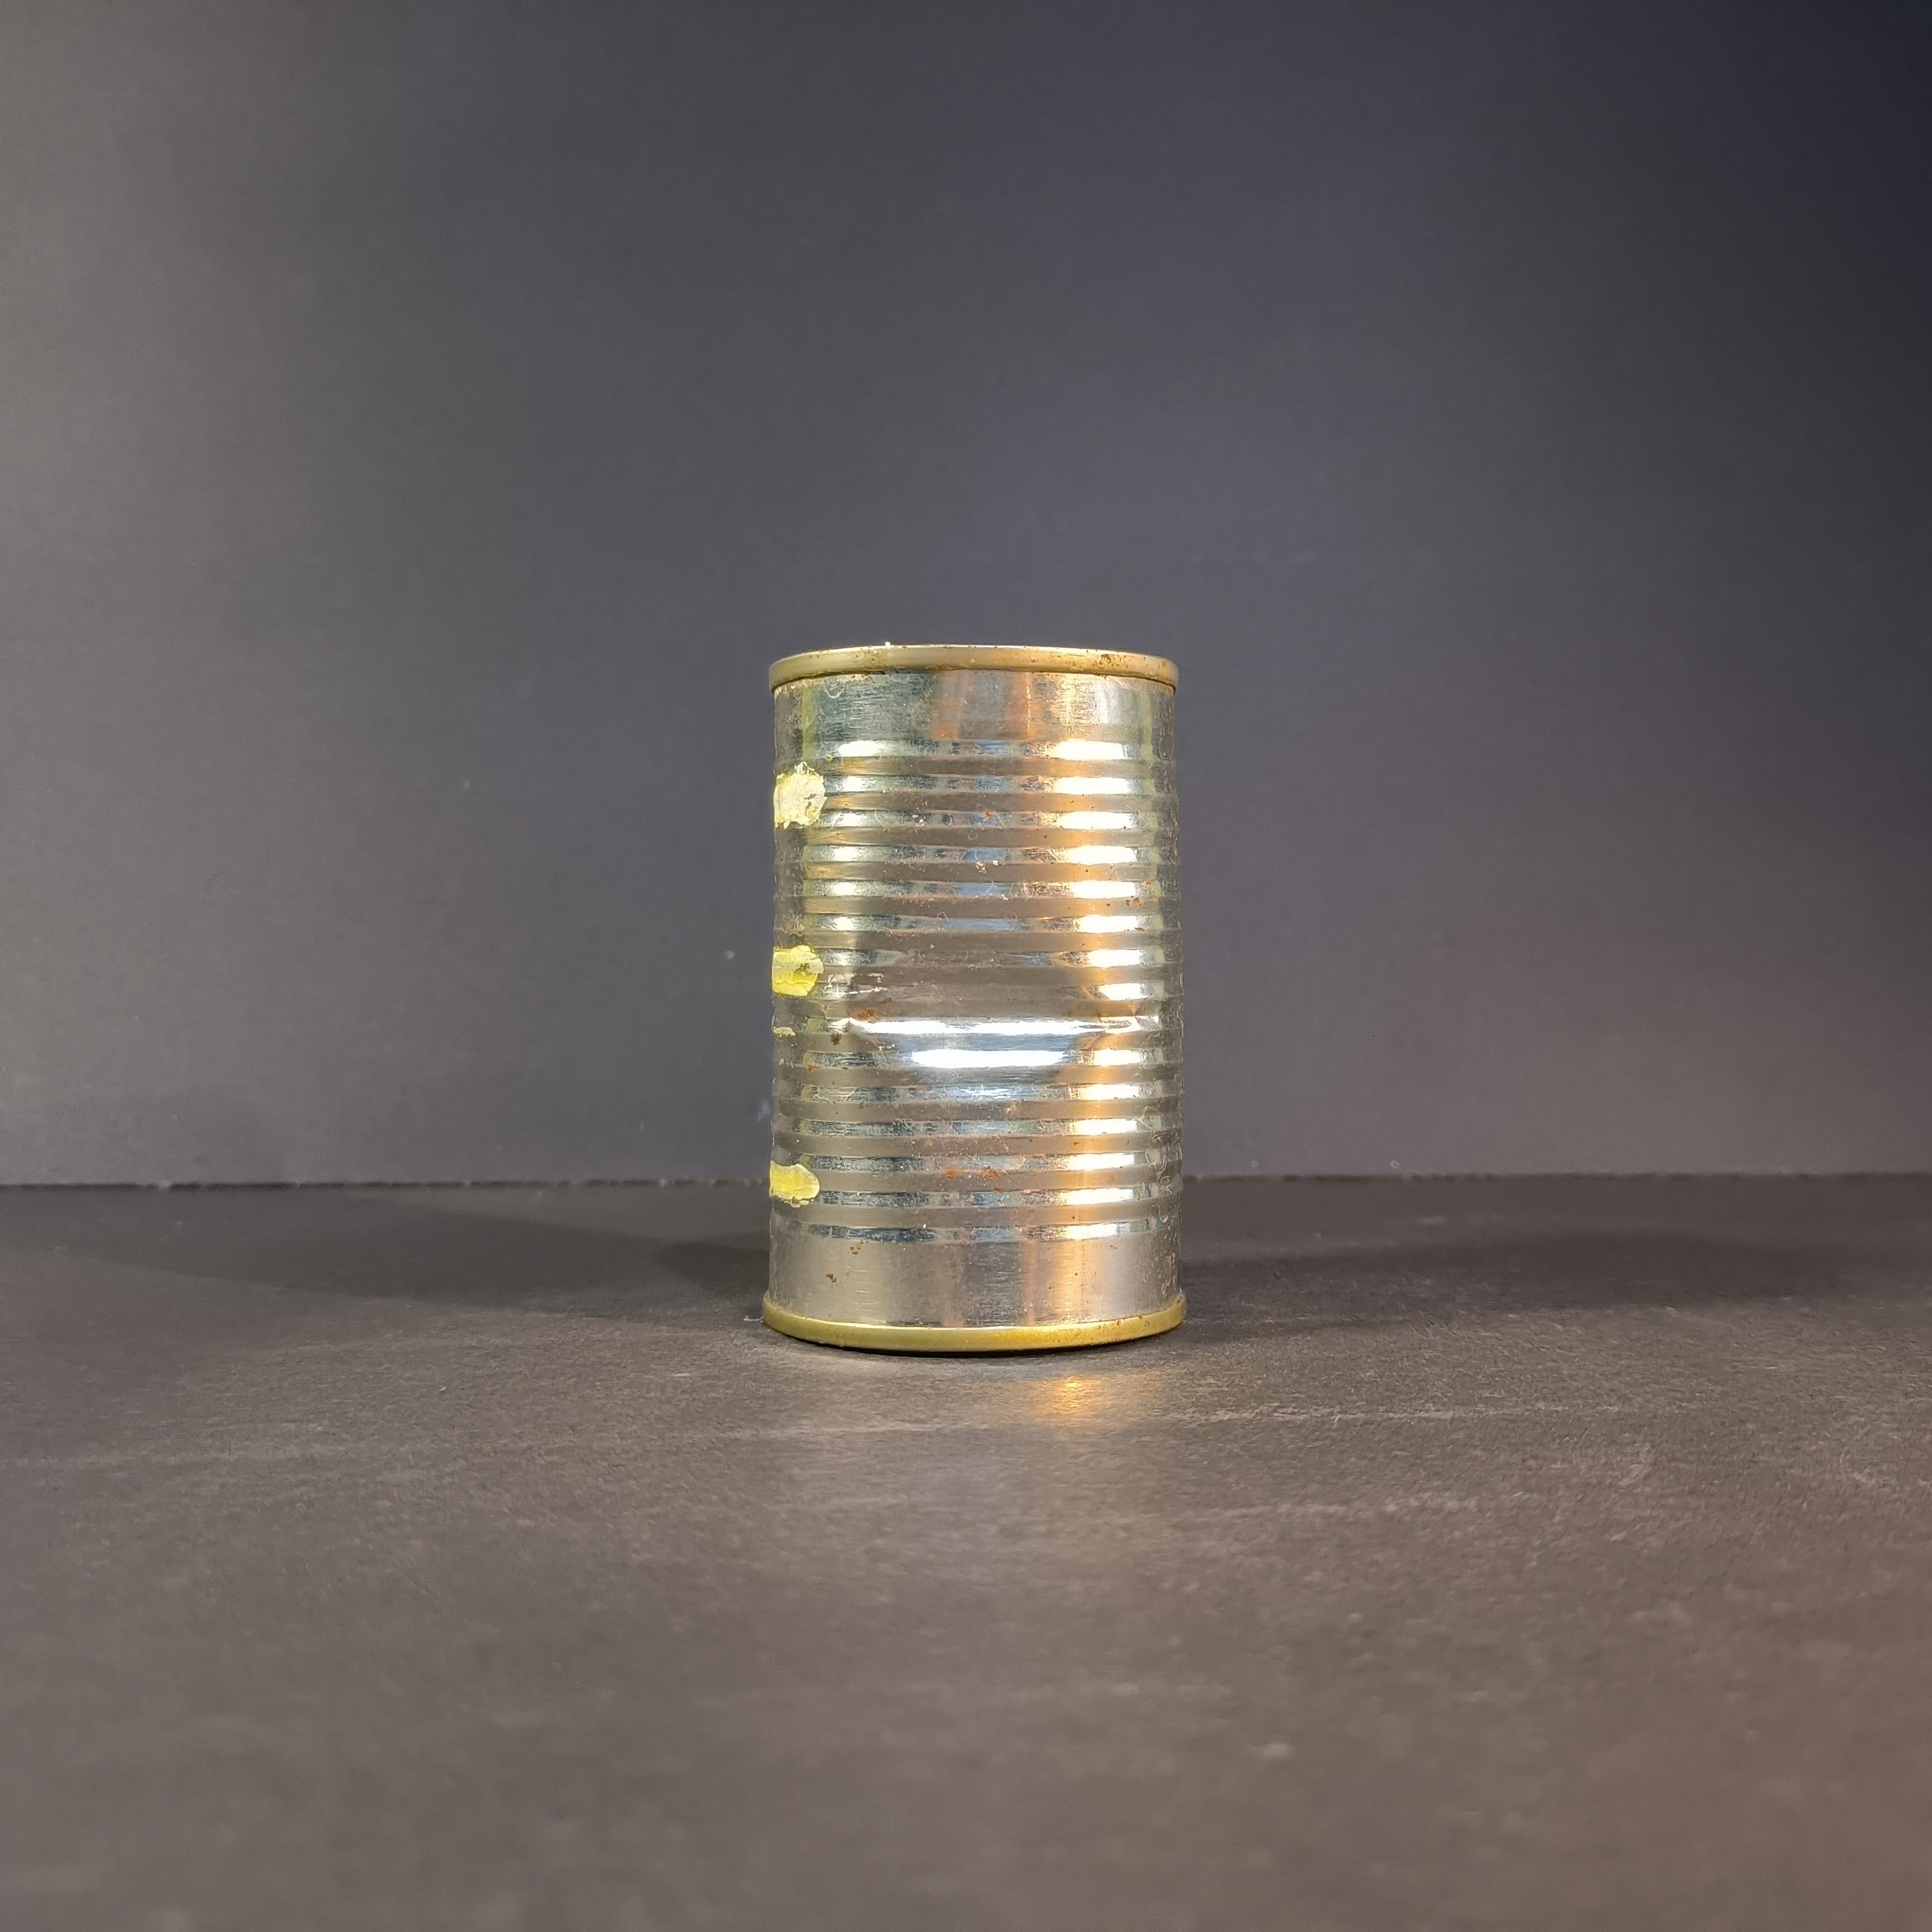Dented: (746, 629, 1205, 1366)
